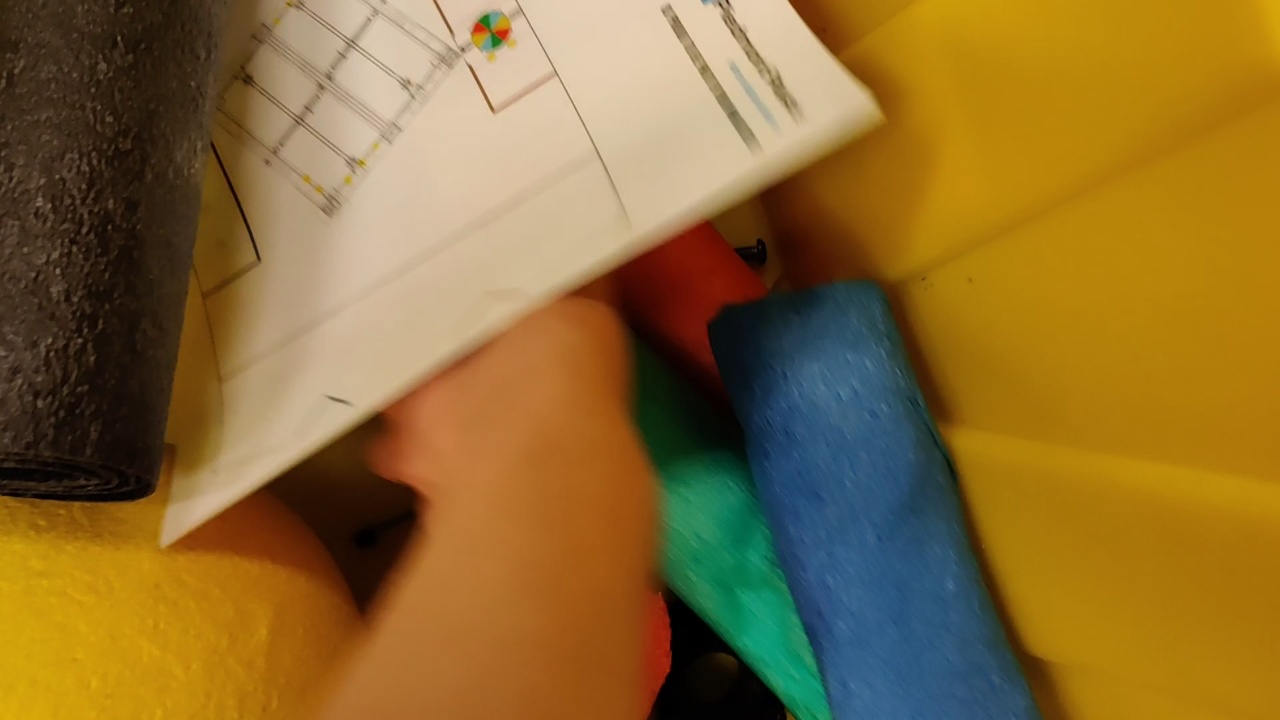Ball: (1, 459, 372, 716)
